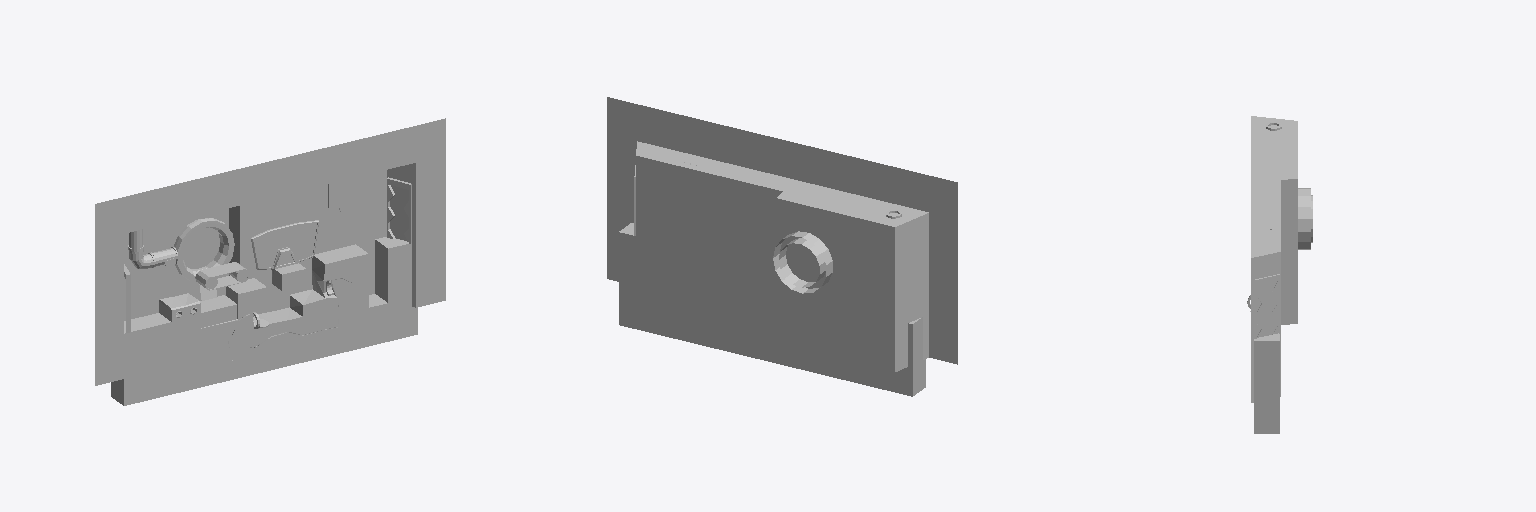
Rendered from 娃娃機.obj.
3 views of the same model, side by side, from view 1: azimuth 30°, elevation 25°; view 2: azimuth 150°, elevation 25°; view 3: azimuth 270°, elevation 25° (orthographic).
Visible parts, largest first — view 1: default, Object001, Box003, Plane007; view 2: default, Object001; view 3: default, Object001.
Boxes of the visible parts, <box> form: default: <box>95,118,445,405</box>; Object001: <box>124,177,411,368</box>; Box003: <box>200,295,236,327</box>; Plane007: <box>328,178,360,211</box>; default: <box>607,97,957,396</box>; Object001: <box>634,165,901,293</box>; default: <box>1251,116,1297,433</box>; Object001: <box>1250,122,1312,338</box>.
Size of the model in its own units: 62279 by 35814 by 10038.